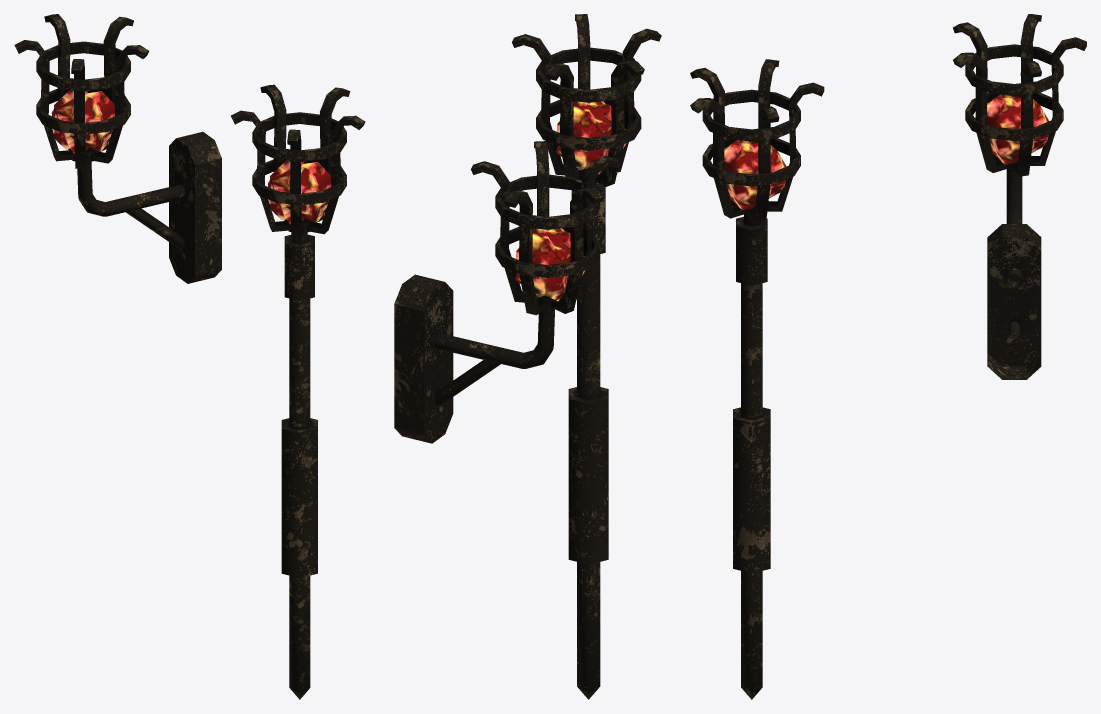
The model's file is torches.fbx.
The picture shows the model from 3 angles, left to right: view 1: azimuth 30°, elevation 25°; view 2: azimuth 150°, elevation 25°; view 3: azimuth 270°, elevation 25°; orthographic projection. The views are drawn at different scales.
Parts seen in each view (by area): view 1: torchstanding, torchwall; view 2: torchstanding, torchwall; view 3: torchstanding, torchwall.
Boxes of the visible parts, x1,y1,x2,y2 form: torchstanding: [231, 84, 365, 699]; torchwall: [14, 14, 221, 283]; torchstanding: [512, 14, 661, 699]; torchwall: [394, 141, 620, 443]; torchstanding: [690, 59, 824, 699]; torchwall: [953, 14, 1086, 379].
Size of the model in its own units: 45.12 by 123 by 72.05.
